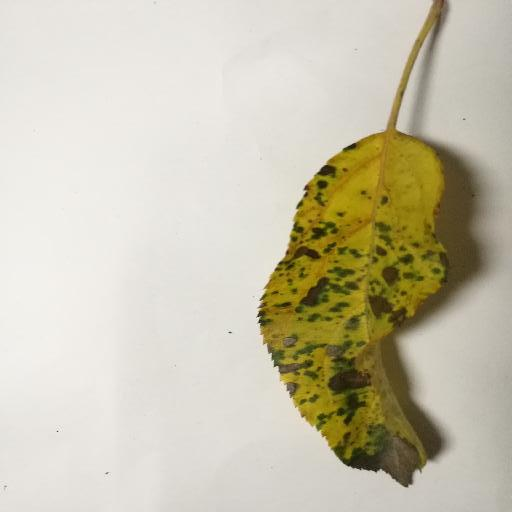Brown_Spot: (216, 126, 472, 491)
